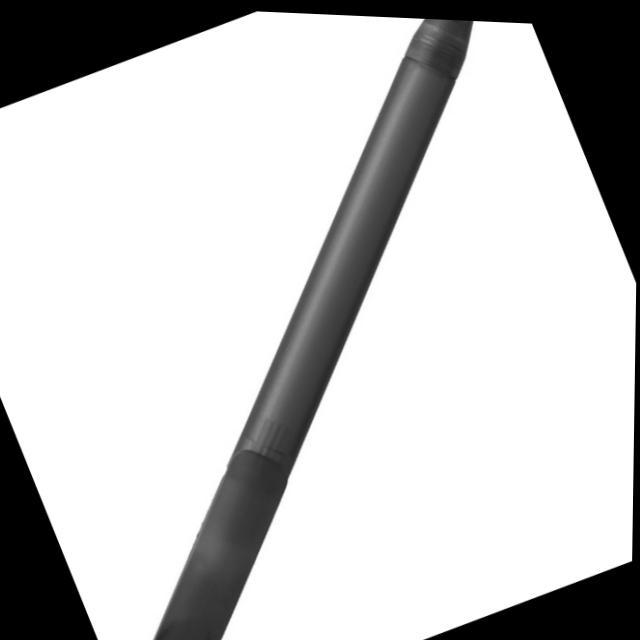pencil: (125, 6, 490, 640)
